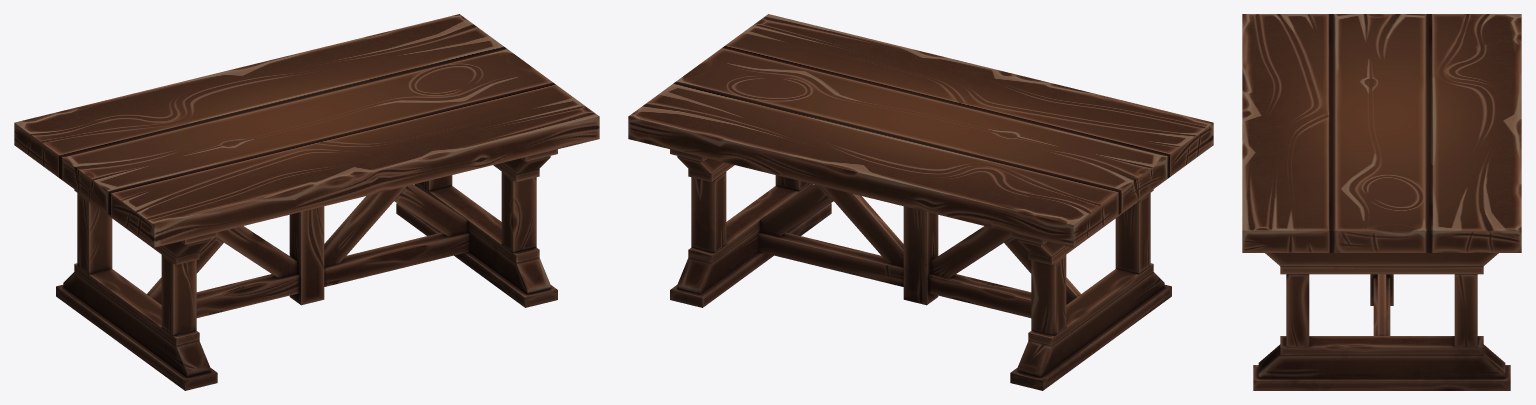
File: table_2.fbx
3 views of the same model, side by side, from view 1: azimuth 30°, elevation 25°; view 2: azimuth 150°, elevation 25°; view 3: azimuth 270°, elevation 25° (orthographic).
Visible parts, largest first — view 1: table_2_1_low; view 2: table_2_1_low; view 3: table_2_1_low.
Boxes of the visible parts, <box> form: table_2_1_low: <box>14,14,599,390</box>; table_2_1_low: <box>628,14,1213,390</box>; table_2_1_low: <box>1242,14,1521,390</box>.
Bounding box in the file's own units: 299 × 114 × 163.
